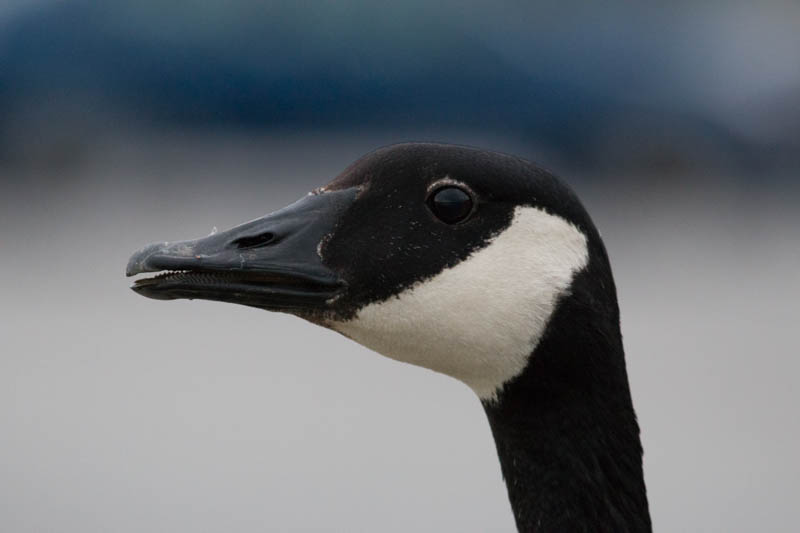goose-head: (125, 141, 619, 402)
